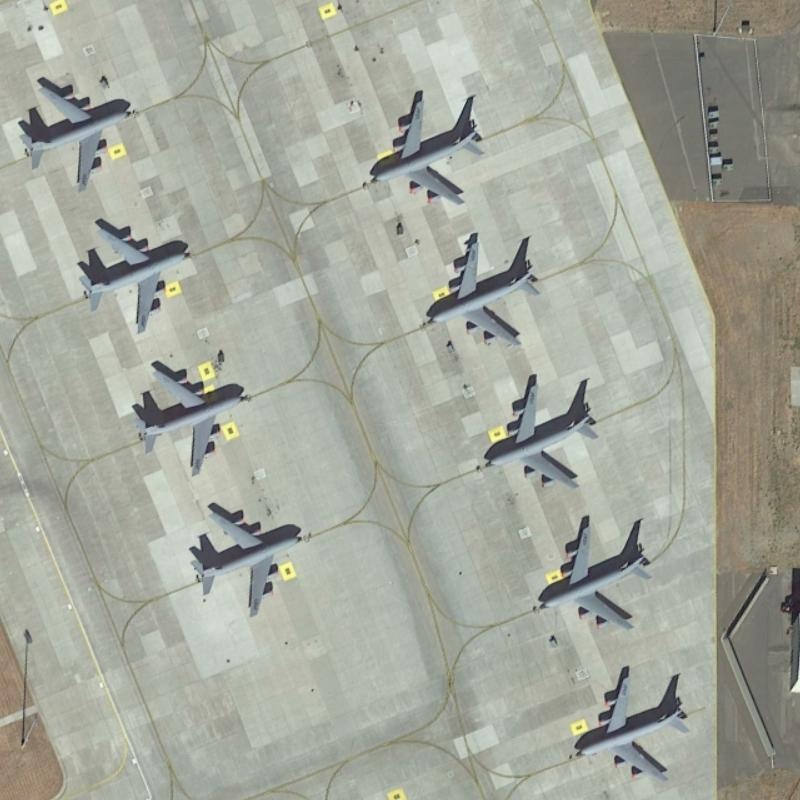A14: (359, 78, 490, 214), (478, 366, 615, 494), (9, 67, 145, 195), (184, 494, 321, 621), (535, 507, 659, 640), (420, 229, 547, 353), (74, 210, 197, 337), (571, 659, 693, 785), (127, 354, 253, 474)
